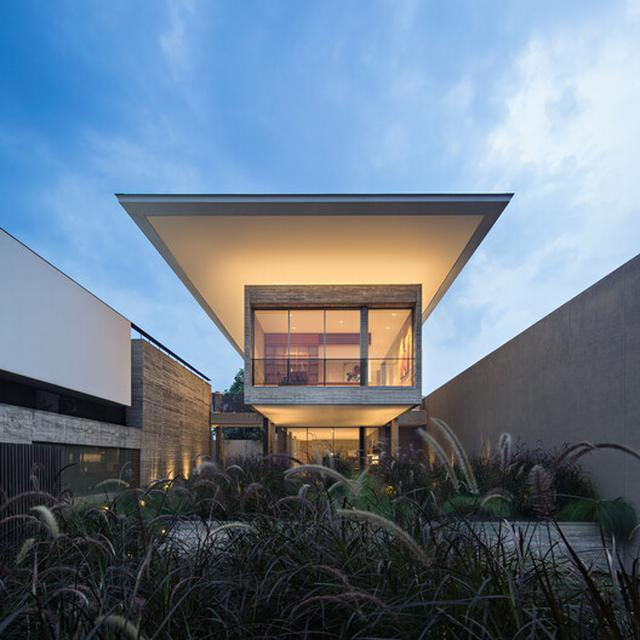building: (119, 190, 520, 493), (0, 223, 210, 521)
